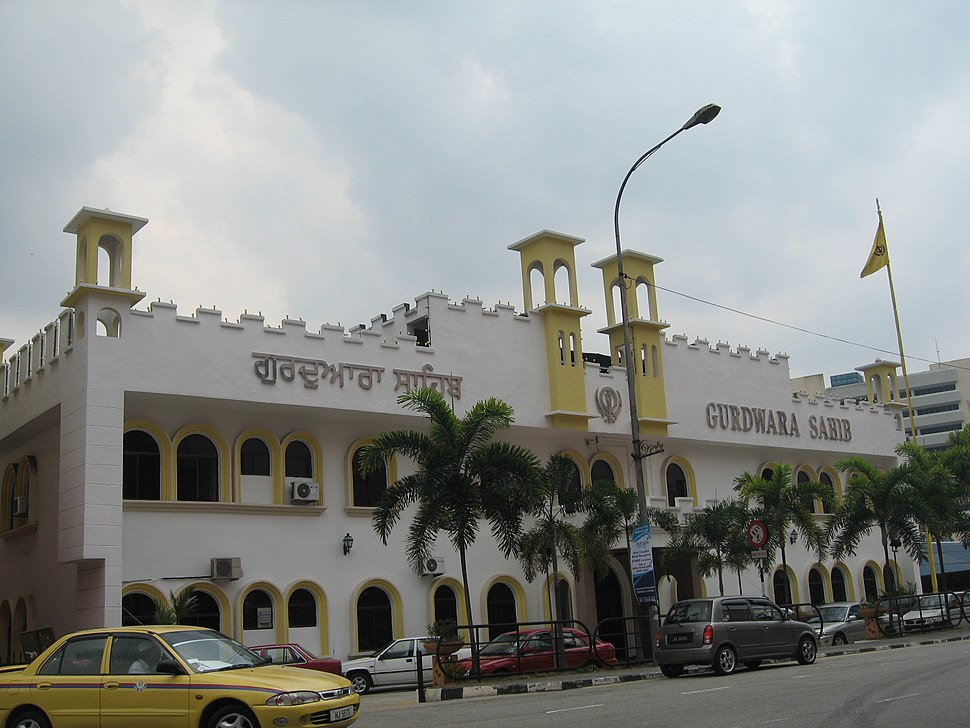Gurdwara: (7, 167, 899, 625)
